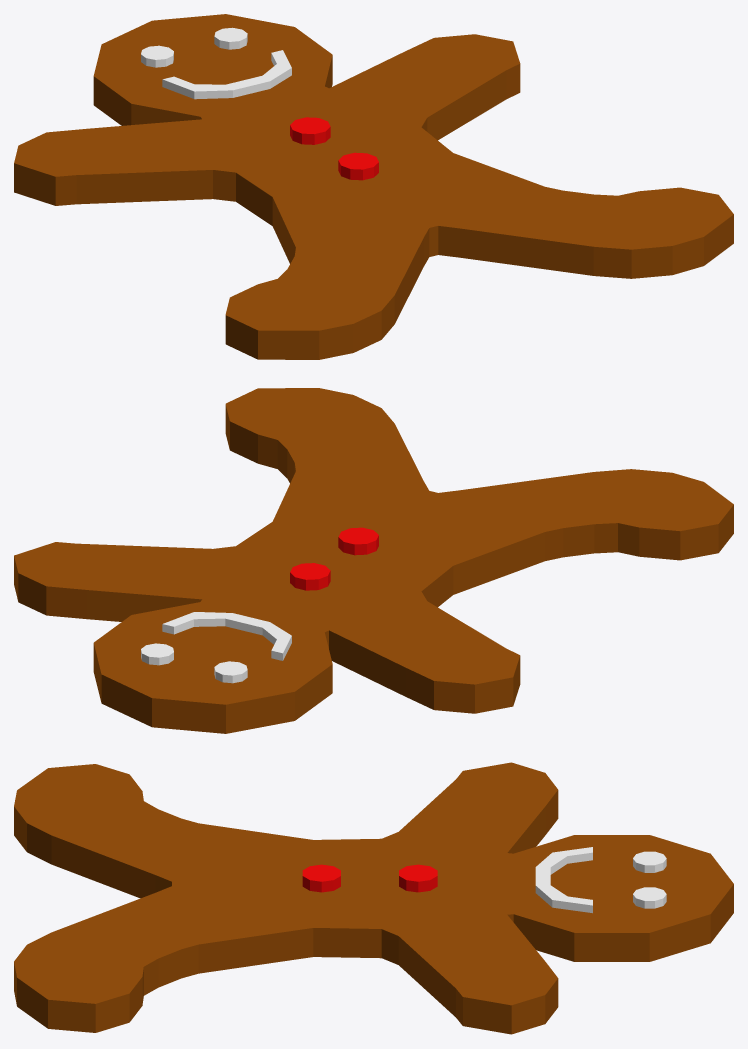
File: Prop_Christmas_Gingerbread_Man_01.FBX
The picture shows the model from 3 angles, top to bottom: view 1: azimuth 30°, elevation 25°; view 2: azimuth 150°, elevation 25°; view 3: azimuth 270°, elevation 25°; orthographic projection.
Visible parts, largest first — view 1: Prop_Christmas_Gingerbread_Man_01; view 2: Prop_Christmas_Gingerbread_Man_01; view 3: Prop_Christmas_Gingerbread_Man_01.
Part boxes in pixels (x1=…): Prop_Christmas_Gingerbread_Man_01: x1=14, y1=14, x2=733, y2=359; Prop_Christmas_Gingerbread_Man_01: x1=14, y1=388, x2=733, y2=733; Prop_Christmas_Gingerbread_Man_01: x1=14, y1=762, x2=733, y2=1034.
Bounding box in the file's own units: 149 × 11.38 × 186.
